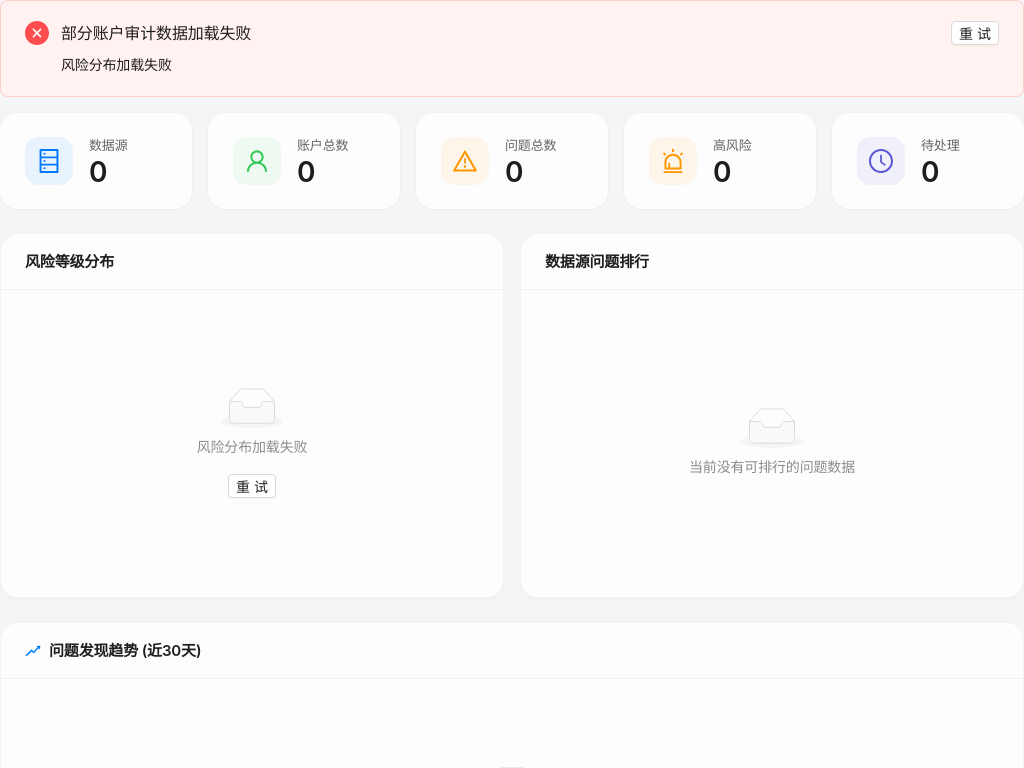
Test: AccountDashboard states › distinguishes an API failure from a successful empty result and retries
Check: the text "部分账户审计数据加载失败" is shown, box [61,23,251,43]
Check: the text "风险分布加载失败" below "部分账户审计数据加载失败" is shown, box [61,56,172,73]
Click the button "重 试" in the row of "部分账户审计数据加载失败".
click(975, 33)  # box [951,21,999,45]
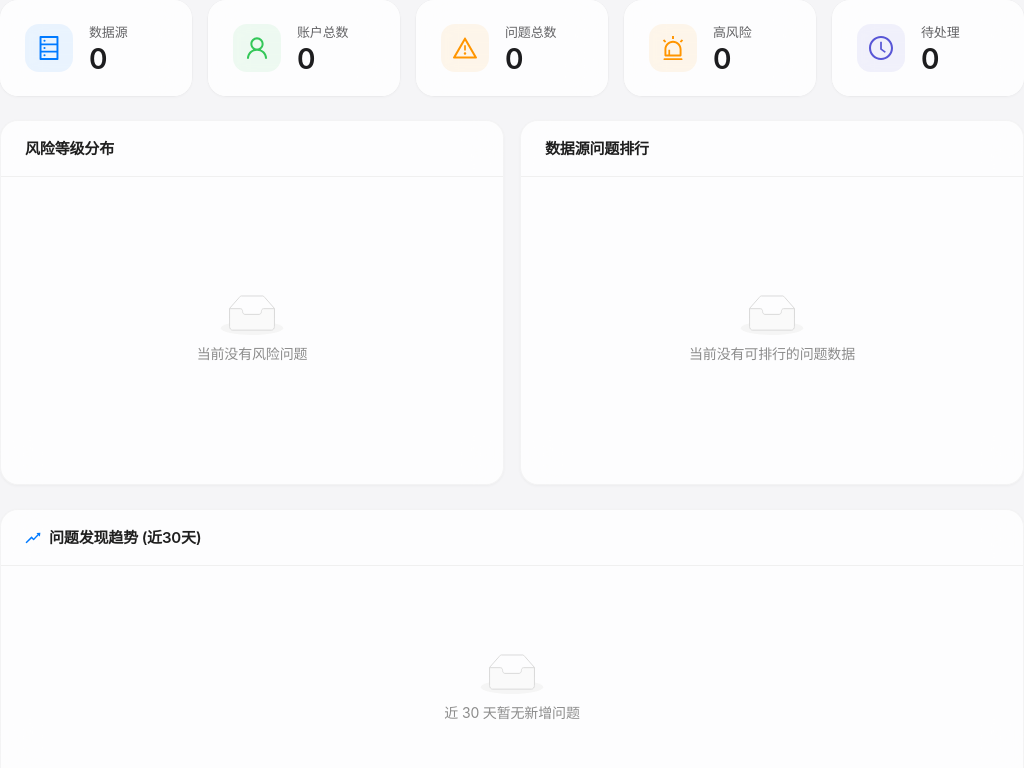
Check: the text "部分账户审计数据加载失败" is gone
Check: the text "当前没有风险问题" is shown, box [197,343,307,365]
